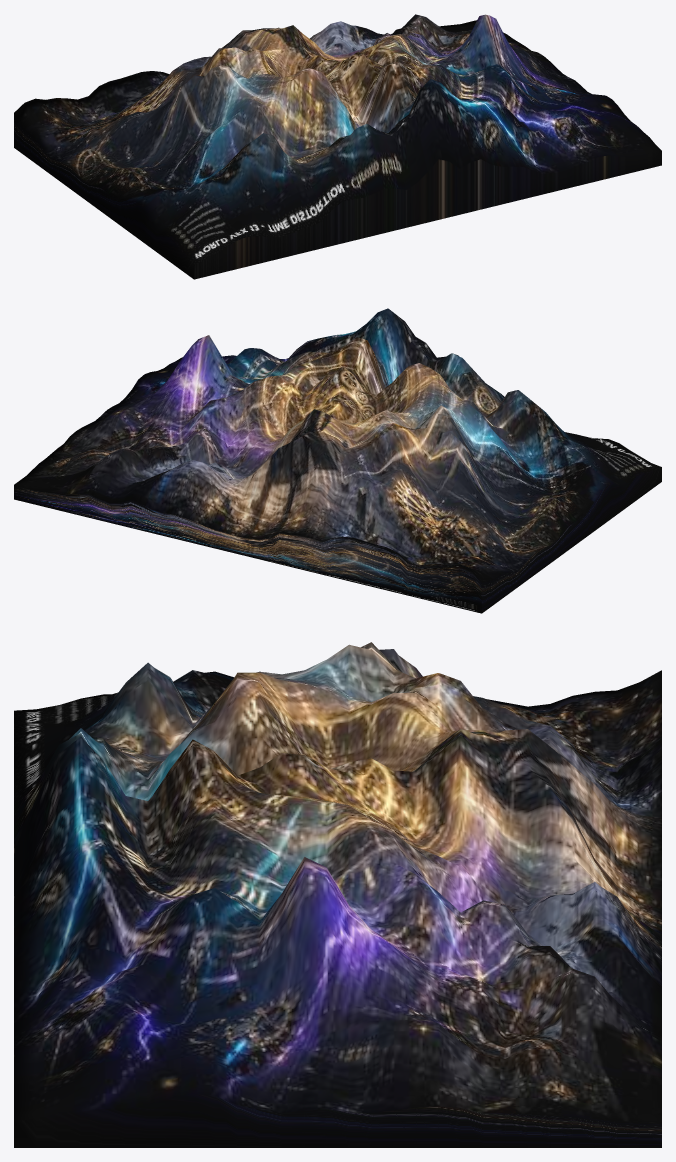
The model's file is WORLD_VFX_13_Time_Distortion.glb.
3 views of the same model, one above another, from view 1: azimuth 30°, elevation 25°; view 2: azimuth 150°, elevation 25°; view 3: azimuth 270°, elevation 25° (orthographic). The views are drawn at different scales.
Visible parts, largest first — view 1: WORLD_VFX_13_Time_Distortion; view 2: WORLD_VFX_13_Time_Distortion; view 3: WORLD_VFX_13_Time_Distortion.
Boxes of the visible parts, box(x1,y1,x2,y2) form: WORLD_VFX_13_Time_Distortion: box(14, 14, 661, 279); WORLD_VFX_13_Time_Distortion: box(14, 308, 661, 613); WORLD_VFX_13_Time_Distortion: box(14, 642, 661, 1147).
Bounding box in the file's own units: 2 × 0.51 × 1.33.
Materials: 1 (1 with a texture image).
